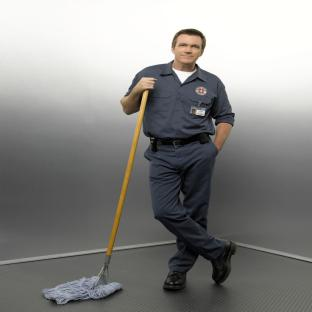Human: (120, 29, 235, 289)
